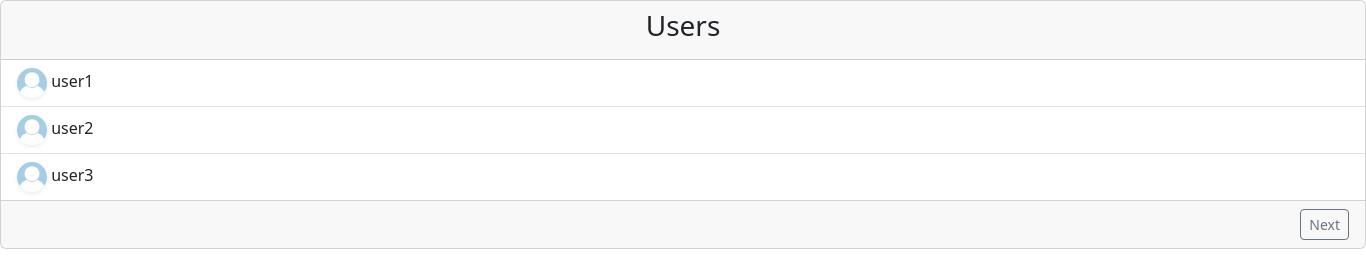
UserList › when user clicks next › displays next page
Expected: the list item "user1" is shown, [1,60,1365,107]
Click the button "Next" at x=1325, y=224, box [1300,209,1349,240]
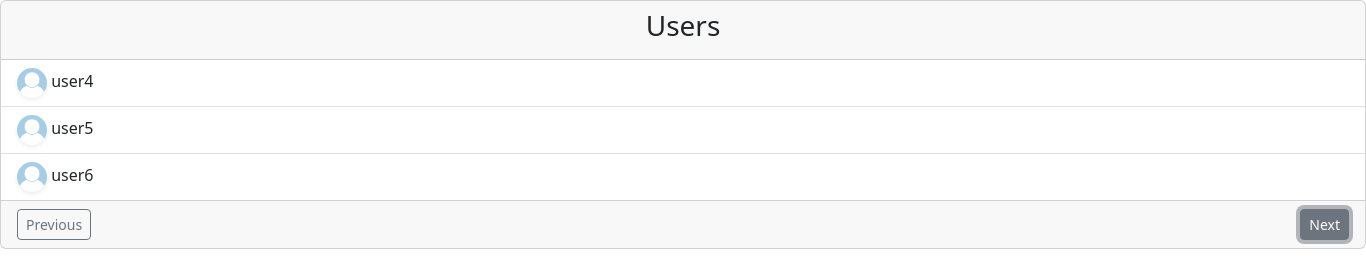
Expected: the list item "user4" is shown, [1,60,1365,107]
